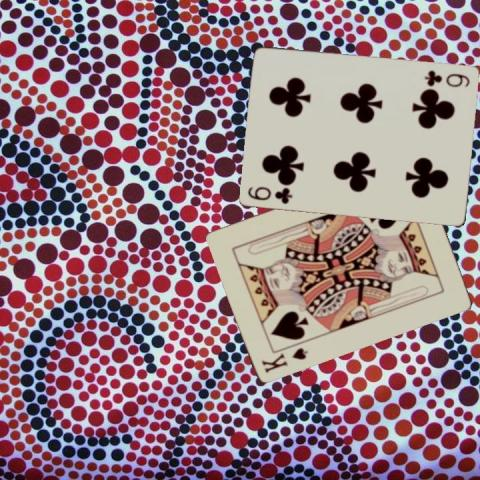6c: (245, 183, 294, 205), (422, 67, 471, 88)
Ks: (258, 344, 309, 374)
